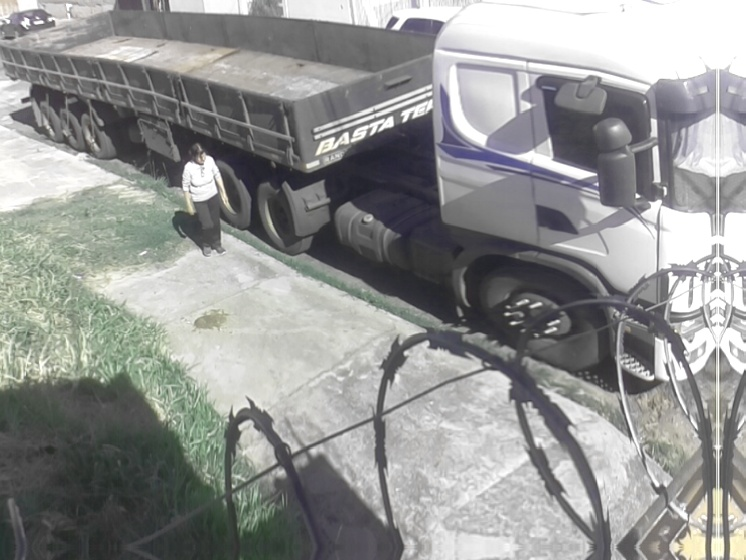person: (181, 142, 228, 257)
